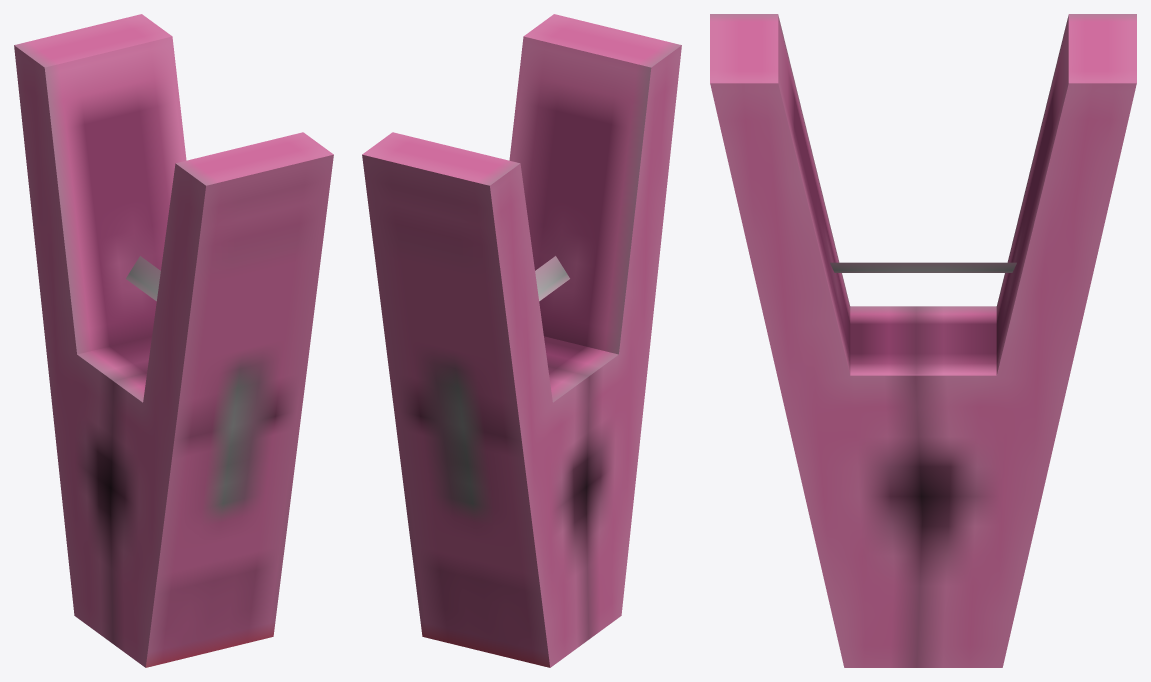
Rendered from jsf_Clothespin_03.fbx.
3 views of the same model, side by side, from view 1: azimuth 30°, elevation 25°; view 2: azimuth 150°, elevation 25°; view 3: azimuth 270°, elevation 25° (orthographic). The views are drawn at different scales.
Visible parts, largest first — view 1: jsf_Clothespin_03; view 2: jsf_Clothespin_03; view 3: jsf_Clothespin_03.
Boxes of the visible parts, <box> form: jsf_Clothespin_03: <box>14,14,333,667</box>; jsf_Clothespin_03: <box>362,14,681,667</box>; jsf_Clothespin_03: <box>710,14,1136,667</box>.
Bounding box in the file's own units: 1.65 × 6.5 × 4.3.
